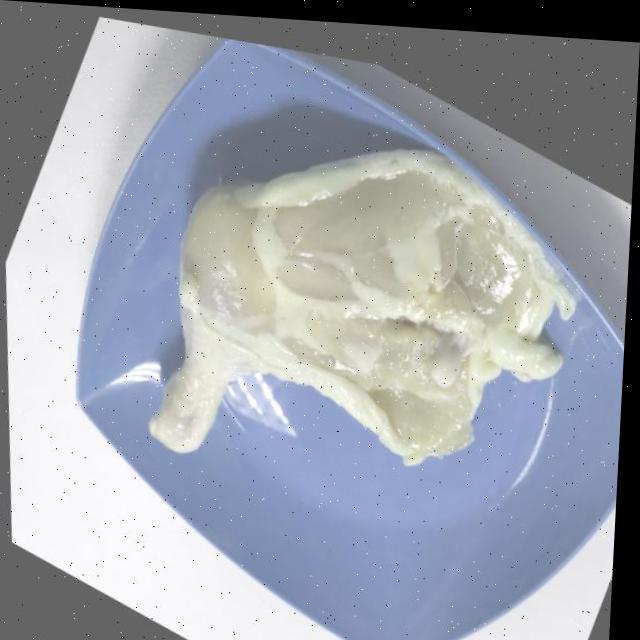quater: (138, 134, 576, 468)
